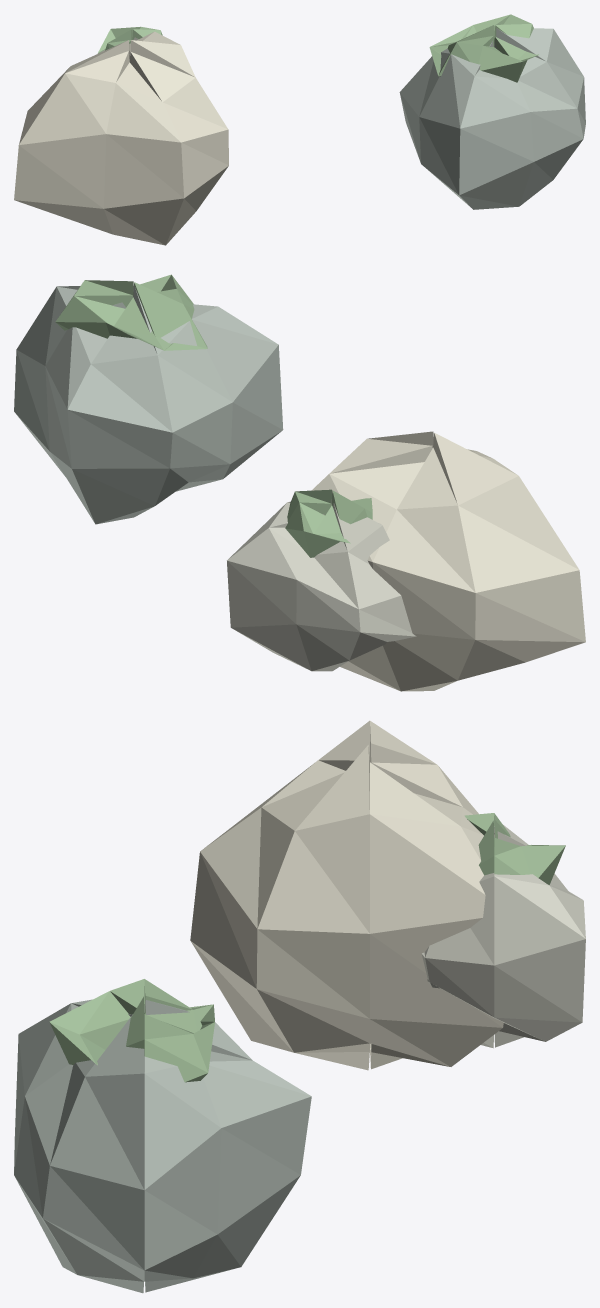
The model's file is moss_boulder.glb.
3 renders of one model, top to bottom at view 1: azimuth 30°, elevation 25°; view 2: azimuth 150°, elevation 25°; view 3: azimuth 270°, elevation 25°, orthographic. The views are drawn at different scales.
Visible parts, largest first — view 1: moss_boulder; view 2: moss_boulder; view 3: moss_boulder.
Part boxes in pixels (x1,y1,x2,y2): moss_boulder: (14, 14, 585, 245); moss_boulder: (14, 274, 585, 691); moss_boulder: (14, 720, 585, 1293).
Bounding box in the file's own units: 2.87 × 1.07 × 1.7.
